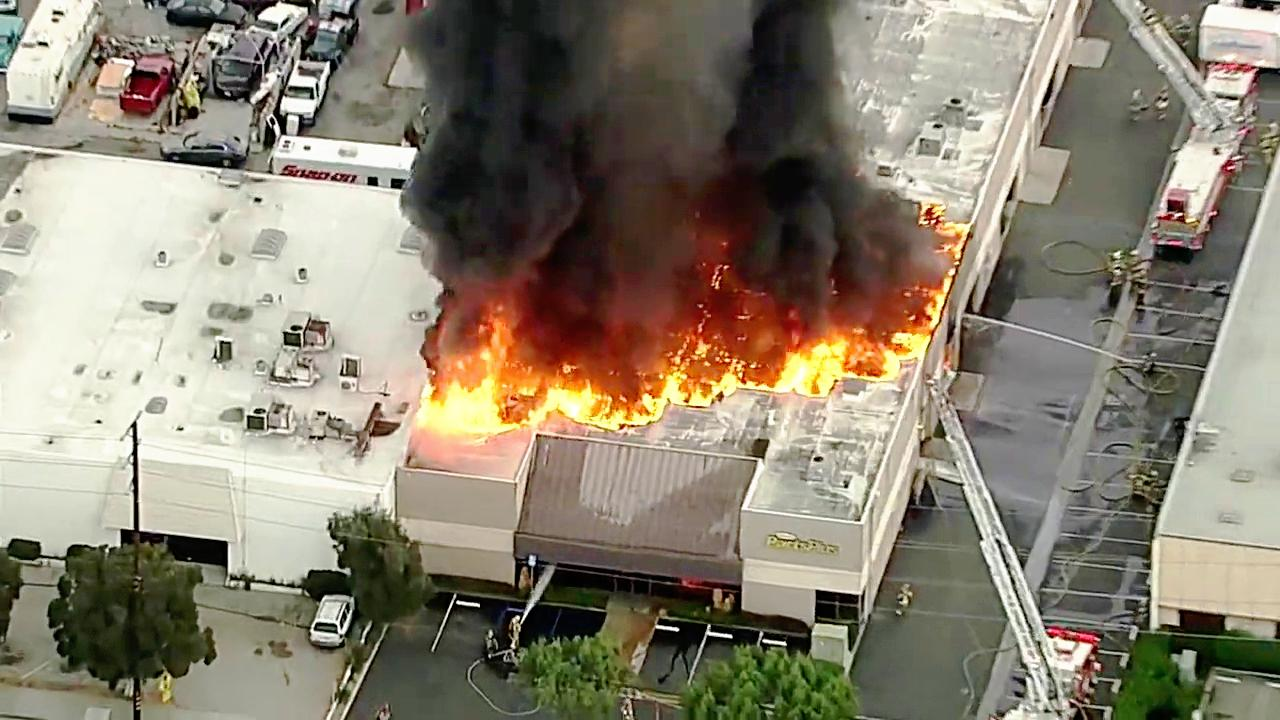fire: (395, 315, 510, 444), (755, 339, 852, 407)
smoke: (470, 0, 803, 273)
